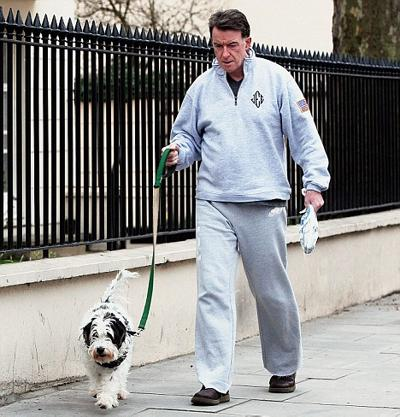person: (163, 11, 330, 404)
